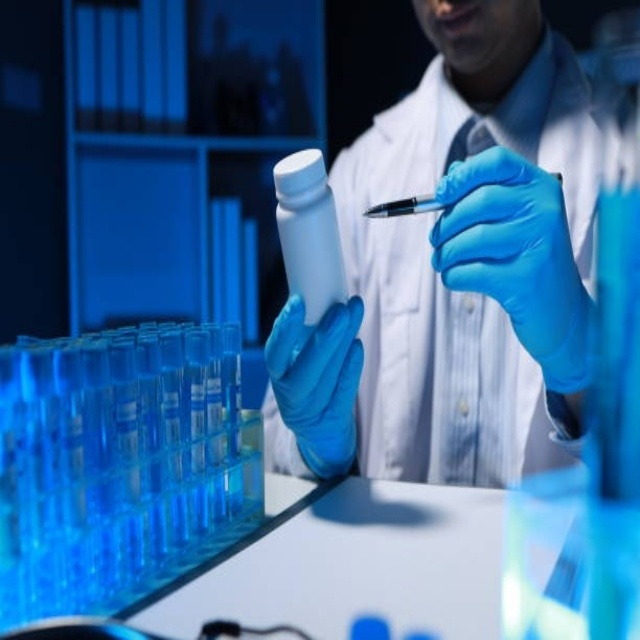Guantes: (426, 143, 598, 393), (265, 288, 366, 479)
Sin_mascara: (425, 2, 493, 61)
